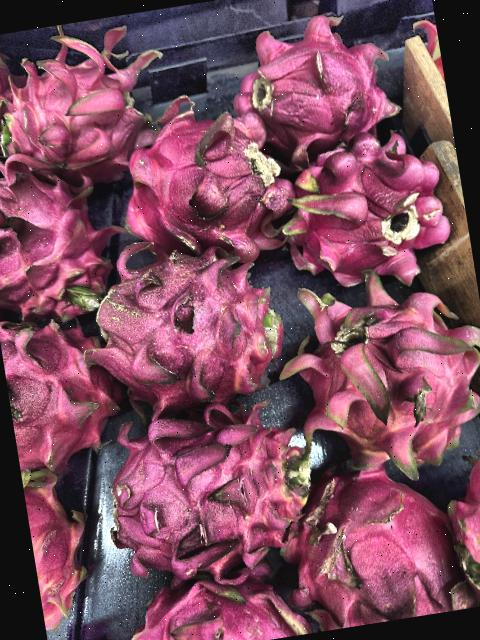buah-naga-matang: (259, 252, 480, 474), (94, 390, 318, 586), (73, 224, 291, 413), (276, 435, 464, 634), (264, 120, 464, 284), (114, 98, 294, 266), (220, 7, 406, 154), (0, 293, 129, 469), (0, 146, 121, 332), (0, 32, 144, 175), (105, 554, 308, 640), (20, 458, 99, 626), (444, 446, 480, 607), (0, 34, 15, 151)
